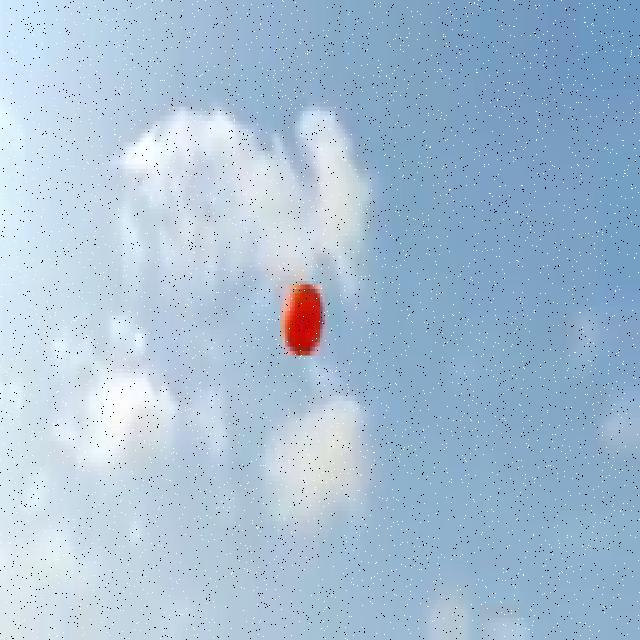red: (279, 281, 325, 356)
